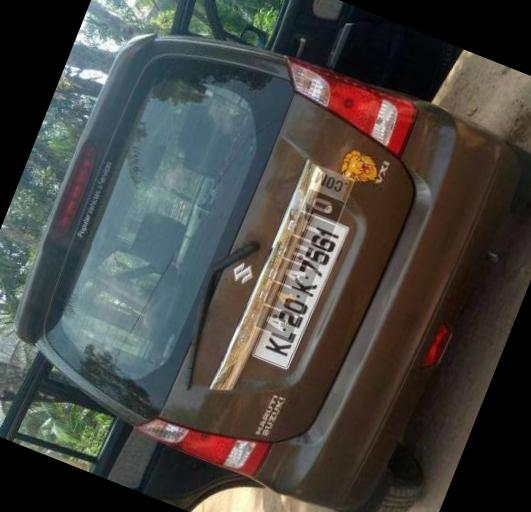plate: (236, 192, 368, 386)
